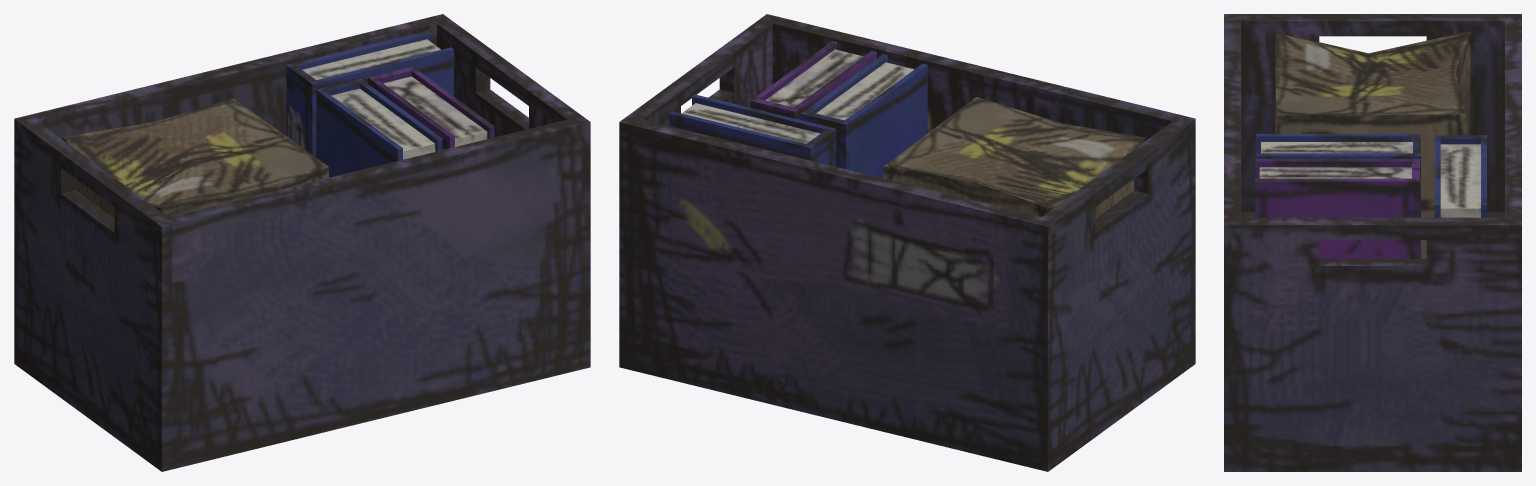
Rendered from boxarch2.fbx.
The picture shows the model from 3 angles, left to right: view 1: azimuth 30°, elevation 25°; view 2: azimuth 150°, elevation 25°; view 3: azimuth 270°, elevation 25°; orthographic projection.
Parts seen in each view (by area): view 1: Boxes.028; view 2: Boxes.028; view 3: Boxes.028.
Boxes of the visible parts, left/top/right/bottom form: Boxes.028: left=14, top=14, right=590, bottom=471; Boxes.028: left=619, top=14, right=1195, bottom=471; Boxes.028: left=1224, top=14, right=1521, bottom=471.
Bounding box in the file's own units: 78.18 × 43.42 × 46.66.
